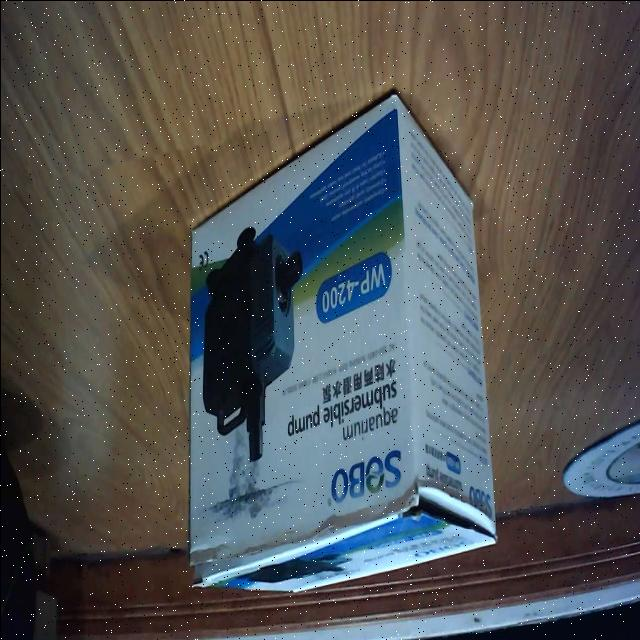SOBO_WP_4200: (155, 80, 508, 606)
